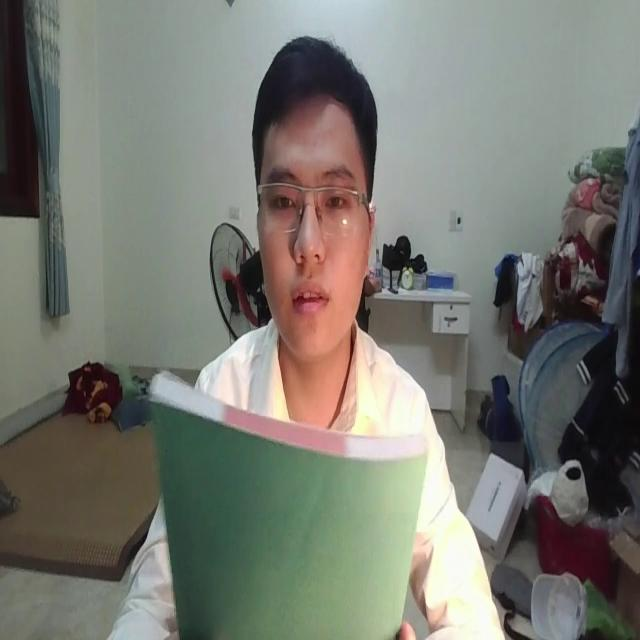book: (146, 352, 425, 640)
student: (114, 28, 498, 640)
